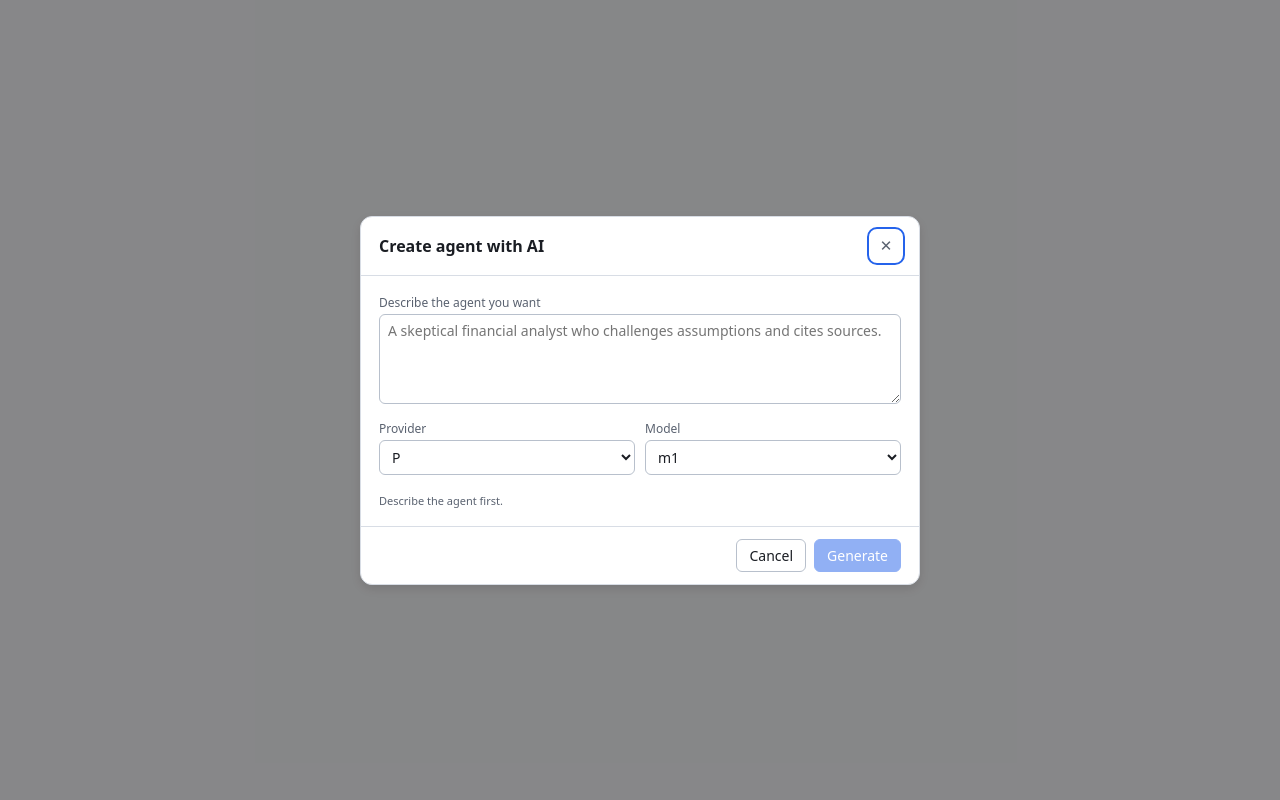
Scenario: CreateAgentWithAiModal › shows an error and the raw response on invalid JSON, without creating an agent
Replace the text in the text box labelled "Describe the agent you want" with "a critic" at {"x": 640, "y": 358}, box [379,314,901,404]
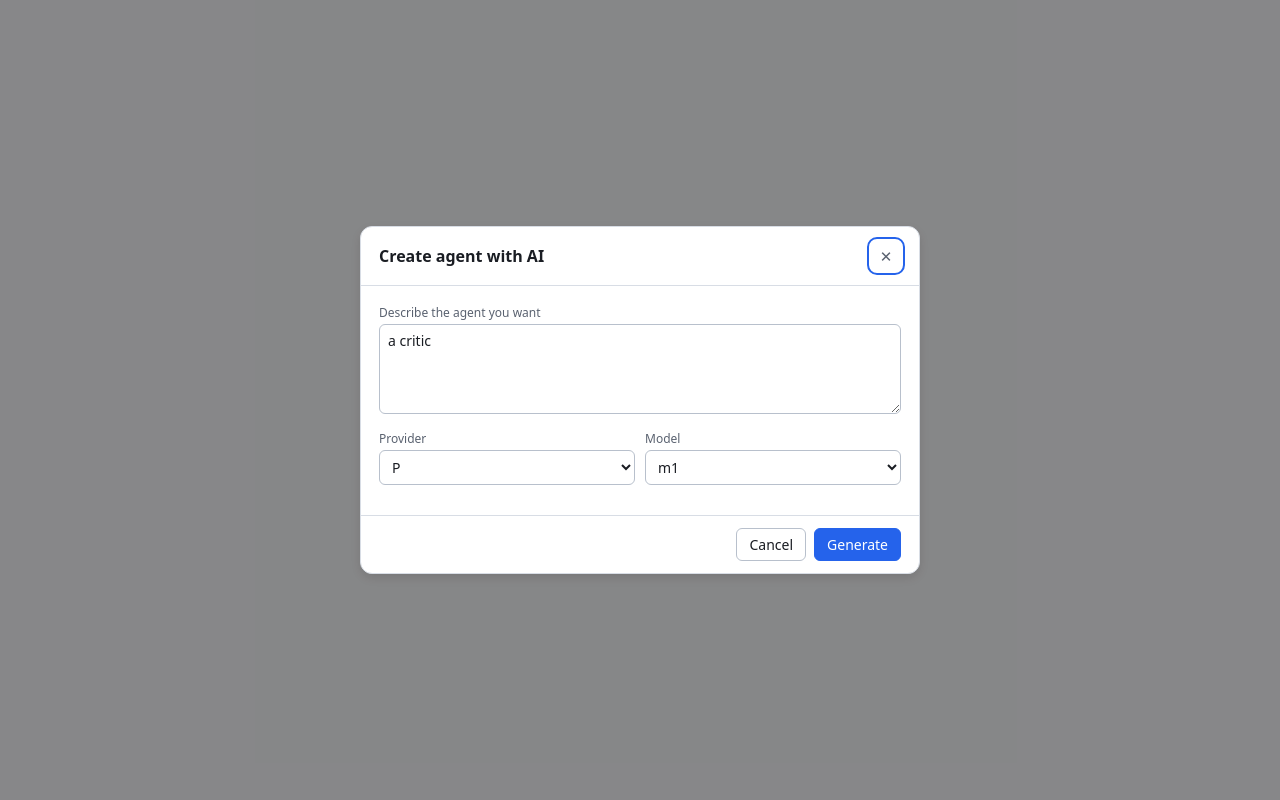
Click the button "Generate" at {"x": 858, "y": 544}, box [814,528,901,561]
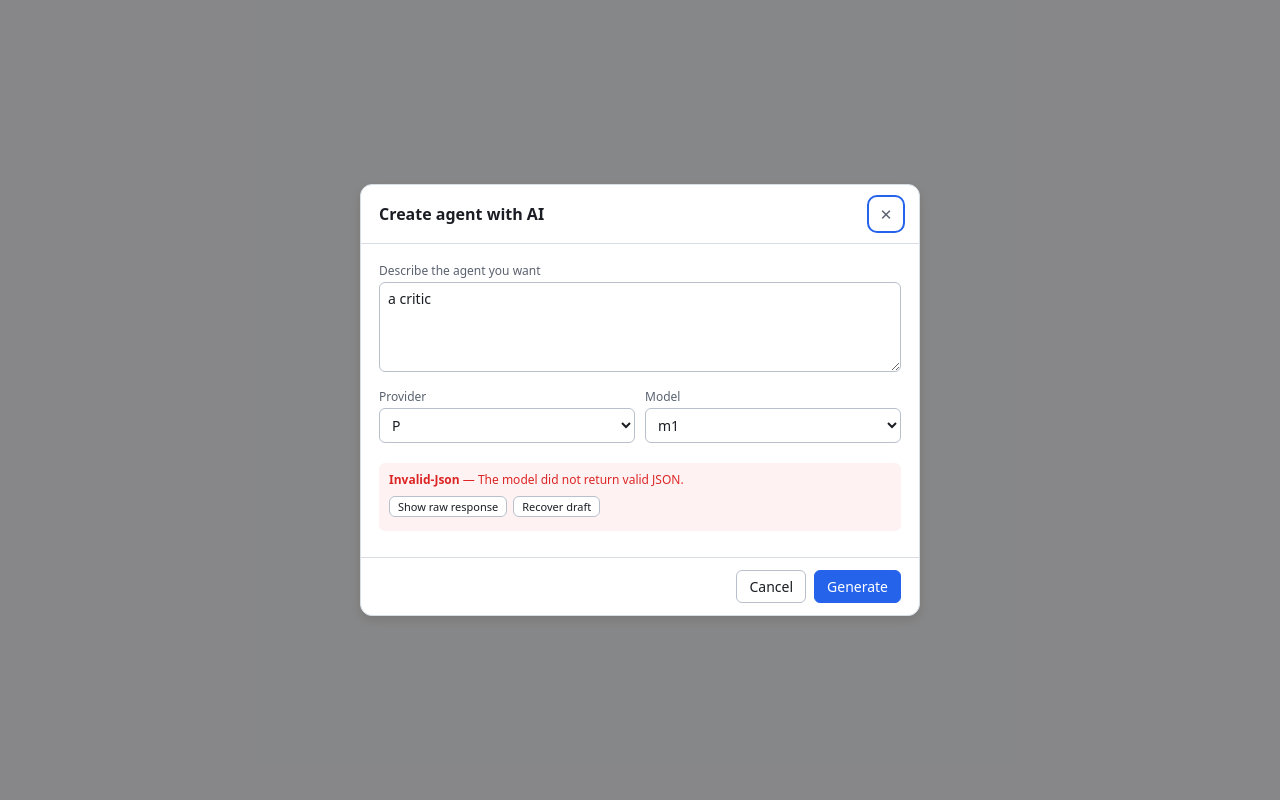
Now the text "invalid-json" is shown, box [389,471,460,488]
Click the button "Show raw response" at {"x": 448, "y": 506}, box [389,496,507,517]
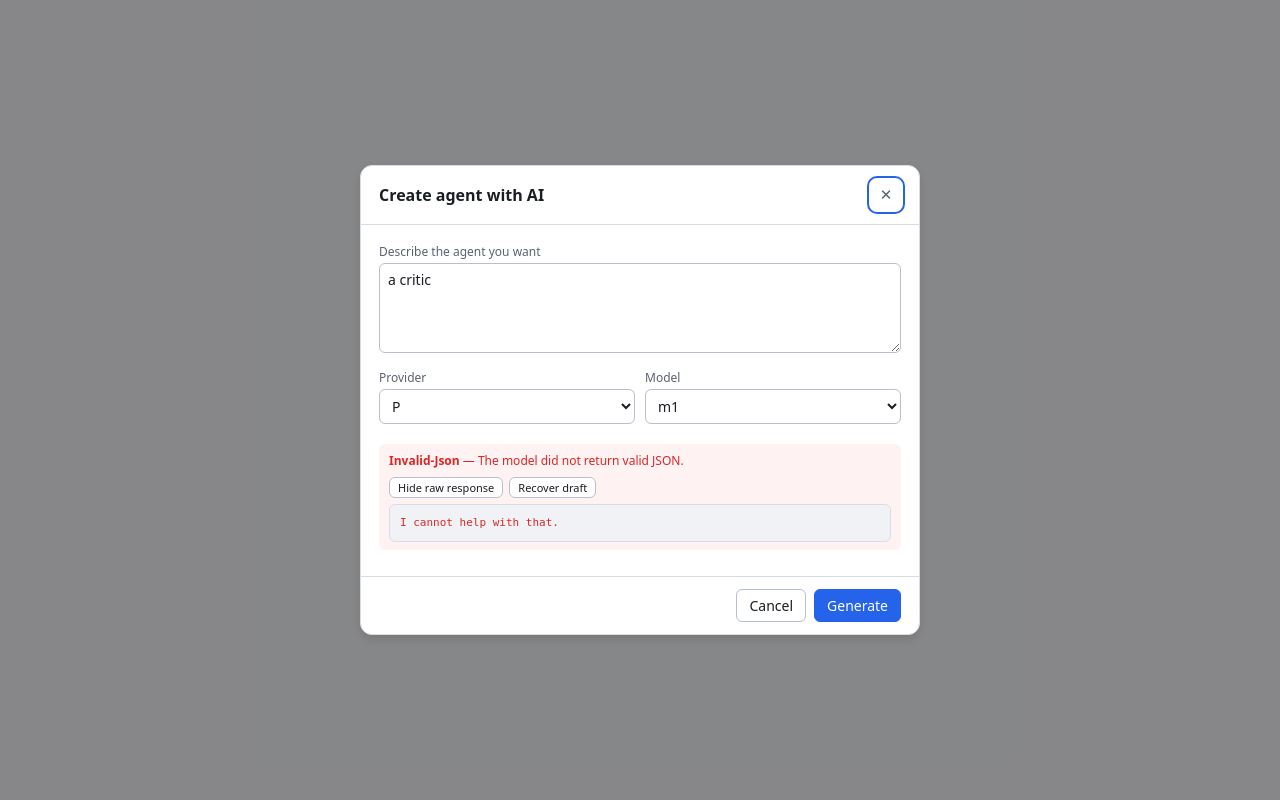
Now the text "I cannot help with that." is shown, box [389,504,891,542]
